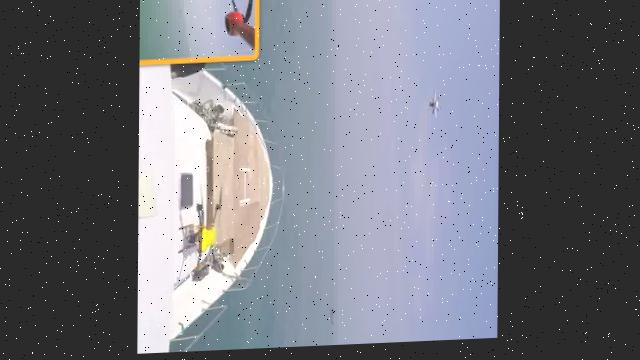drone: (172, 188, 239, 291), (408, 86, 449, 118)
